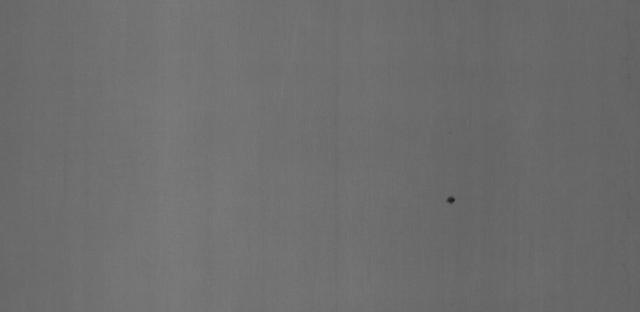inclusion: (442, 194, 456, 207)
